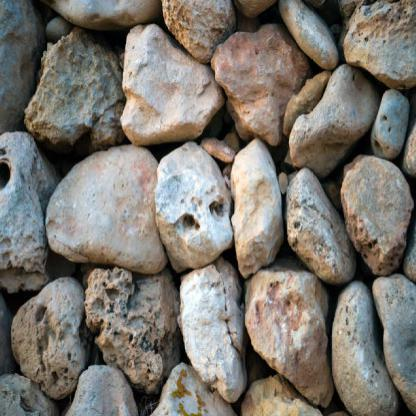Sedimentary_Limestone: (122, 26, 225, 166), (245, 267, 343, 404), (19, 25, 124, 147), (36, 145, 152, 253), (218, 20, 310, 147), (79, 265, 173, 383), (9, 272, 115, 375), (149, 144, 234, 268), (338, 153, 416, 285), (228, 131, 286, 275), (283, 174, 348, 286)
